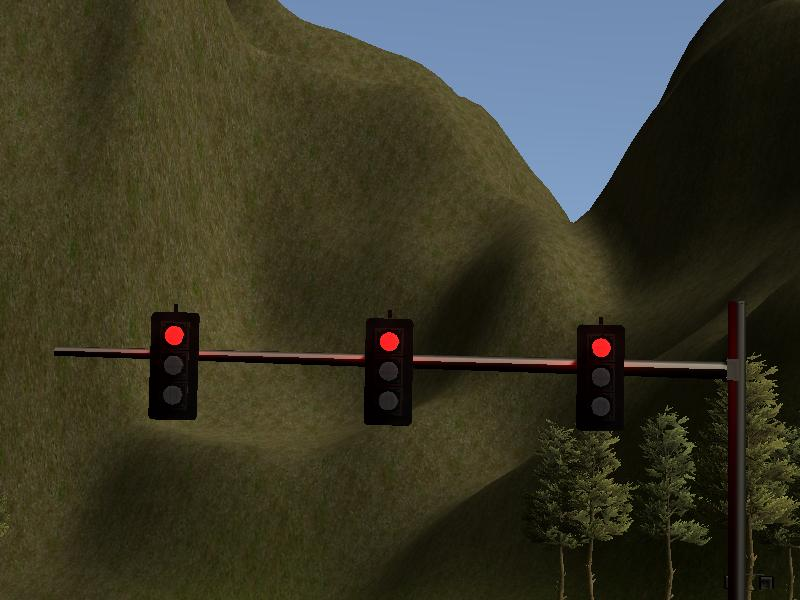Red: (149, 311, 196, 418), (577, 325, 624, 429), (366, 319, 412, 425)
